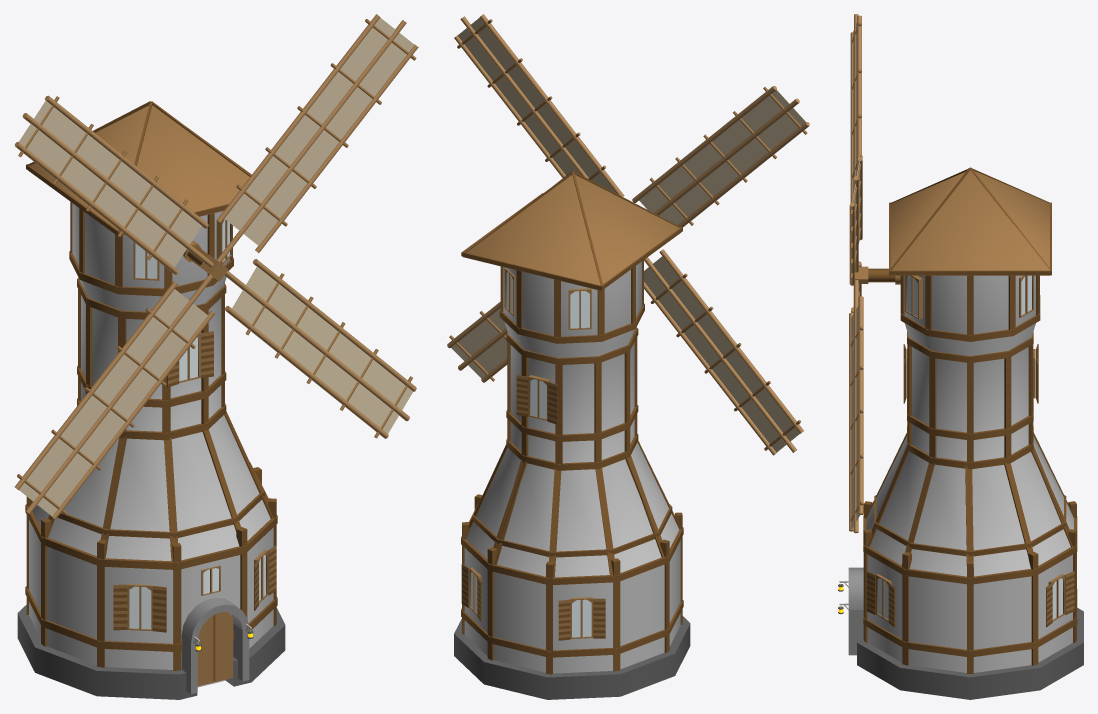
File: Windmill.dae
The picture shows the model from 3 angles, left to right: view 1: azimuth 30°, elevation 25°; view 2: azimuth 150°, elevation 25°; view 3: azimuth 270°, elevation 25°; orthographic projection. The views are drawn at different scales.
Visible parts, largest first — view 1: Null.1; view 2: Null.1; view 3: Null.1.
Boxes of the visible parts, box(x1,y1,x2,y2) form: Null.1: box(14, 14, 418, 699); Null.1: box(447, 14, 809, 699); Null.1: box(838, 14, 1083, 699).
Size of the model in its own units: 181 by 271 by 107.
